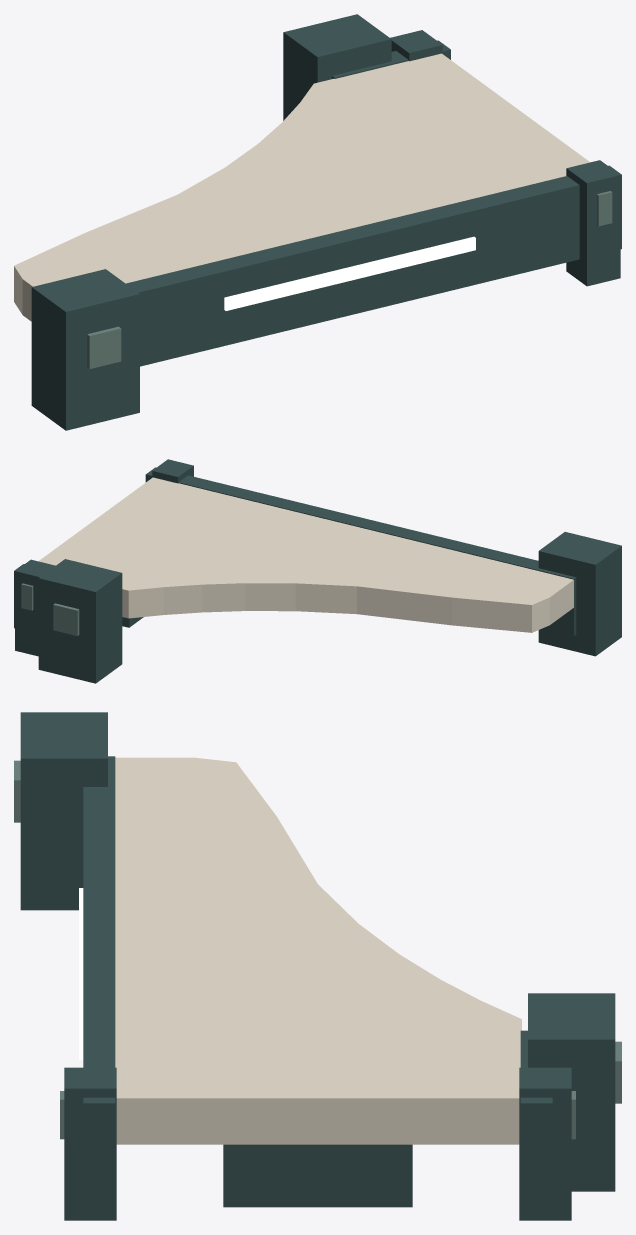
The model's file is Pier_Angled_70_lab.glb.
3 renders of one model, top to bottom at view 1: azimuth 30°, elevation 25°; view 2: azimuth 150°, elevation 25°; view 3: azimuth 270°, elevation 25°, orthographic. The views are drawn at different scales.
Visible parts, largest first — view 1: Pier_Angled_70; view 2: Pier_Angled_70; view 3: Pier_Angled_70.
Part boxes in pixels (<box>): Pier_Angled_70: <box>14,14,621,430</box>; Pier_Angled_70: <box>14,459,621,683</box>; Pier_Angled_70: <box>14,712,621,1220</box>.
Bounding box in the file's own units: 5.88 × 1.15 × 4.17.
